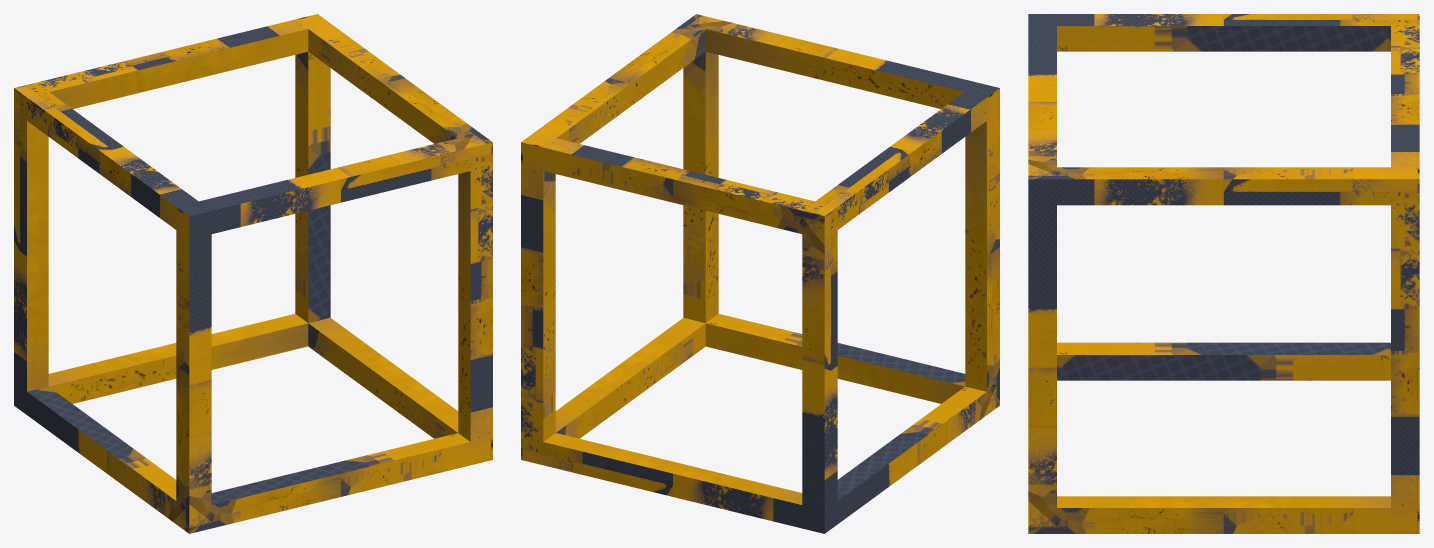
Rendered from mesh_placeholder_hollow2mx2m.fbx.
3 views of the same model, side by side, from view 1: azimuth 30°, elevation 25°; view 2: azimuth 150°, elevation 25°; view 3: azimuth 270°, elevation 25° (orthographic). The views are drawn at different scales.
Parts seen in each view (by area): view 1: Mesh_placeholder_hollow2mx2m; view 2: Mesh_placeholder_hollow2mx2m; view 3: Mesh_placeholder_hollow2mx2m.
Boxes of the visible parts, x1,y1,x2,y2 form: Mesh_placeholder_hollow2mx2m: (14, 14, 492, 533); Mesh_placeholder_hollow2mx2m: (521, 14, 999, 533); Mesh_placeholder_hollow2mx2m: (1028, 14, 1419, 533).
Bounding box in the file's own units: 2 × 2 × 2.
